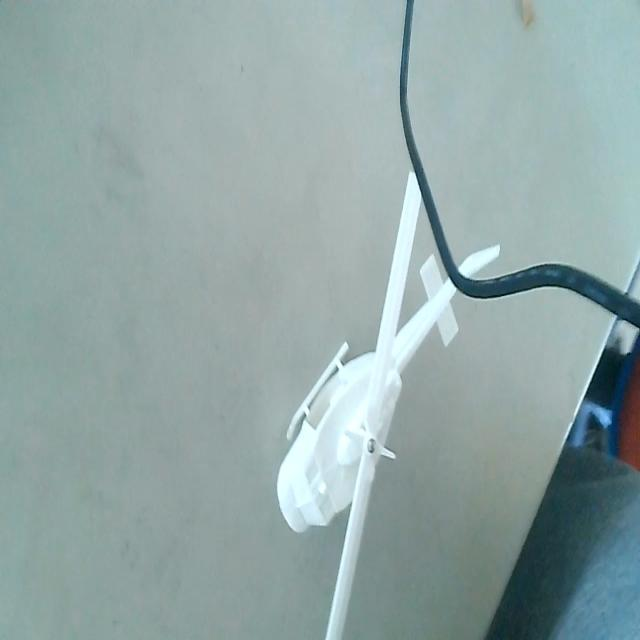Helicopter: (273, 154, 503, 640)
